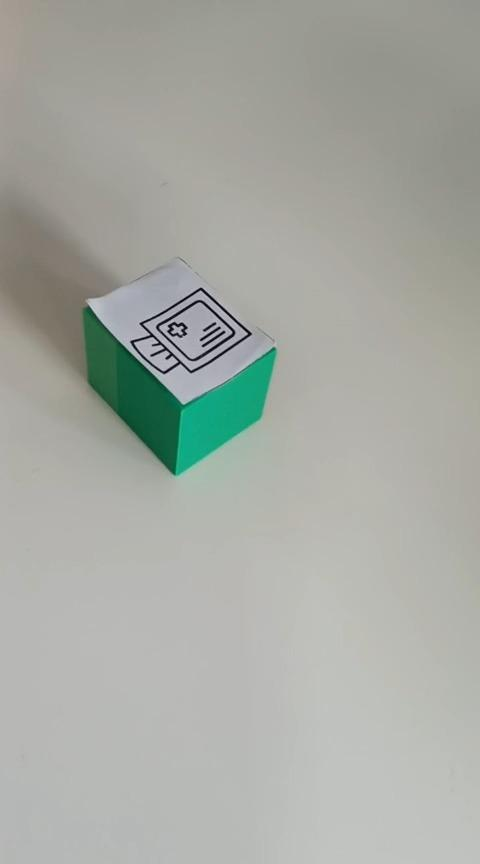Gauze: (81, 255, 277, 476)
